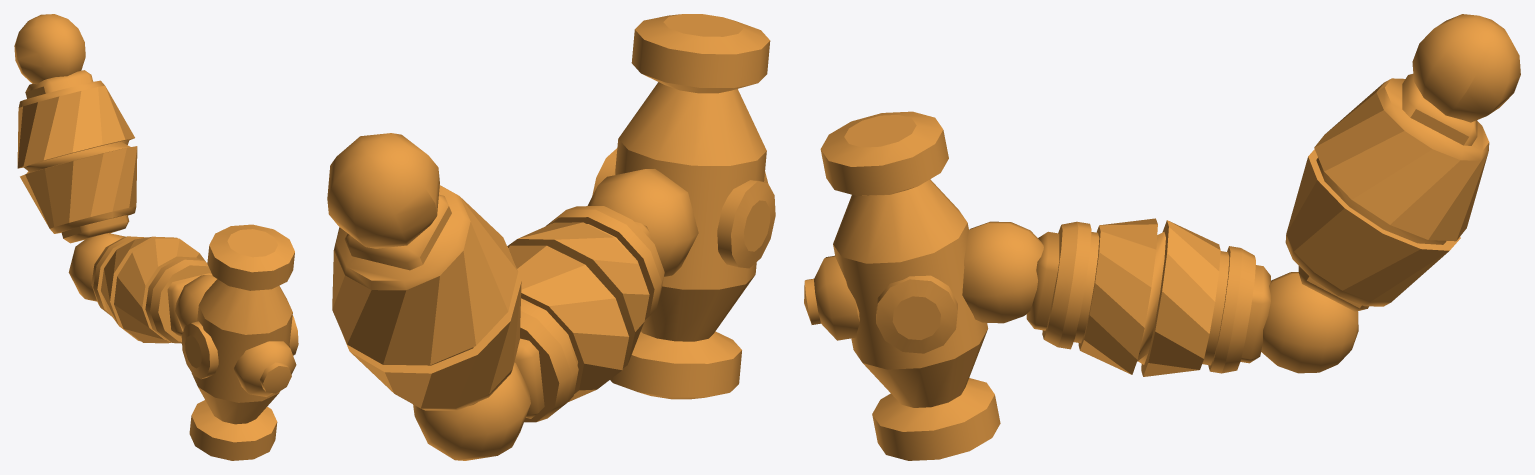
Rendered from ggj_project_bot_arm_004.fbx.
3 renders of one model, left to right at view 1: azimuth 30°, elevation 25°; view 2: azimuth 150°, elevation 25°; view 3: azimuth 270°, elevation 25°, orthographic. The views are drawn at different scales.
Visible parts, largest first — view 1: Sphere.011, Cylinder.002, Sphere.007; view 2: Sphere.011, Cylinder.002, Sphere.007; view 3: Sphere.011, Cylinder.002, Sphere.007.
Boxes of the visible parts, box(x1,y1,x2,y2) form: Sphere.011: box(175, 224, 298, 460); Cylinder.002: box(14, 14, 137, 243); Sphere.007: box(68, 233, 212, 343); Sphere.011: box(587, 14, 775, 399); Cylinder.002: box(327, 133, 521, 410); Sphere.007: box(413, 206, 664, 460); Sphere.011: box(804, 111, 1043, 460); Cylinder.002: box(1285, 14, 1520, 311); Sphere.007: box(1026, 218, 1358, 376).
Bounding box in the file's own units: 38.58 × 103 × 157.
